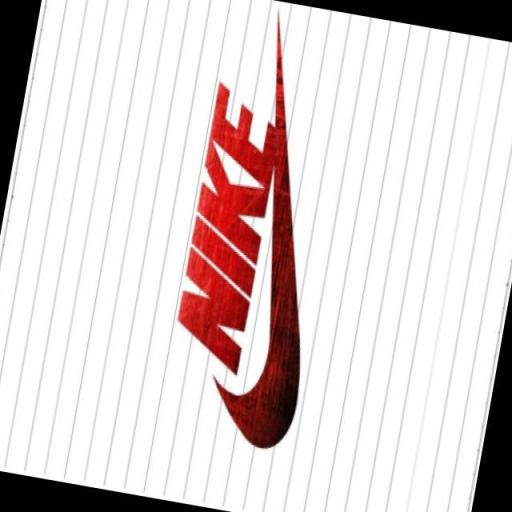Nike: (202, 6, 366, 454), (164, 74, 290, 383)
